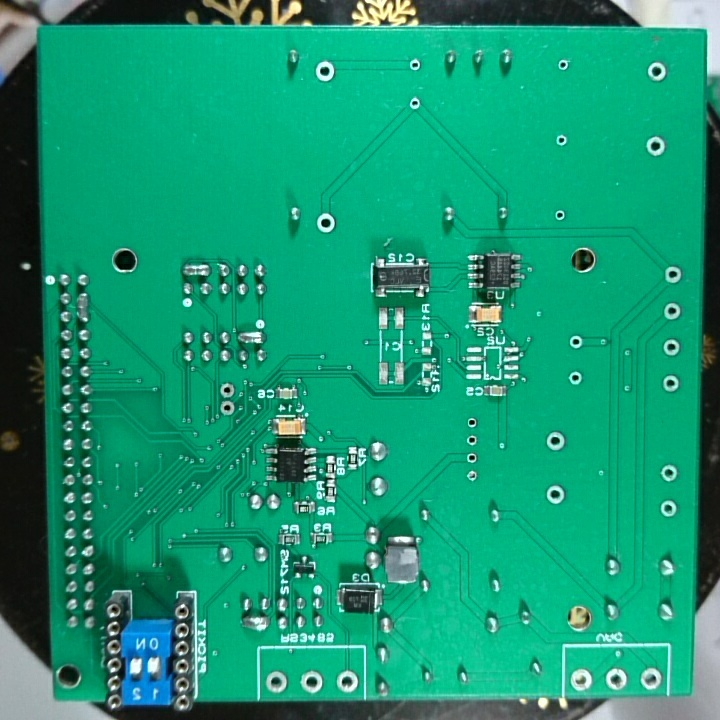F: (334, 667, 362, 696), (644, 58, 671, 86), (542, 428, 569, 455), (568, 666, 594, 694), (264, 669, 291, 695), (298, 669, 325, 695), (312, 58, 337, 86), (603, 665, 628, 693), (639, 666, 665, 692), (643, 133, 668, 160), (314, 211, 338, 237), (544, 483, 568, 509), (662, 262, 685, 288), (657, 462, 681, 485), (661, 336, 682, 360), (657, 498, 679, 520), (661, 300, 682, 322), (565, 367, 587, 388), (661, 372, 680, 395), (217, 380, 238, 400), (217, 398, 237, 419), (568, 331, 585, 353), (463, 466, 481, 485), (554, 56, 571, 75), (551, 206, 568, 225), (553, 132, 570, 150), (464, 415, 482, 432), (463, 448, 480, 466), (463, 433, 482, 449), (408, 95, 422, 112), (408, 56, 422, 73)
P: (179, 260, 213, 280), (239, 613, 272, 633), (74, 289, 92, 324), (235, 327, 267, 346)
